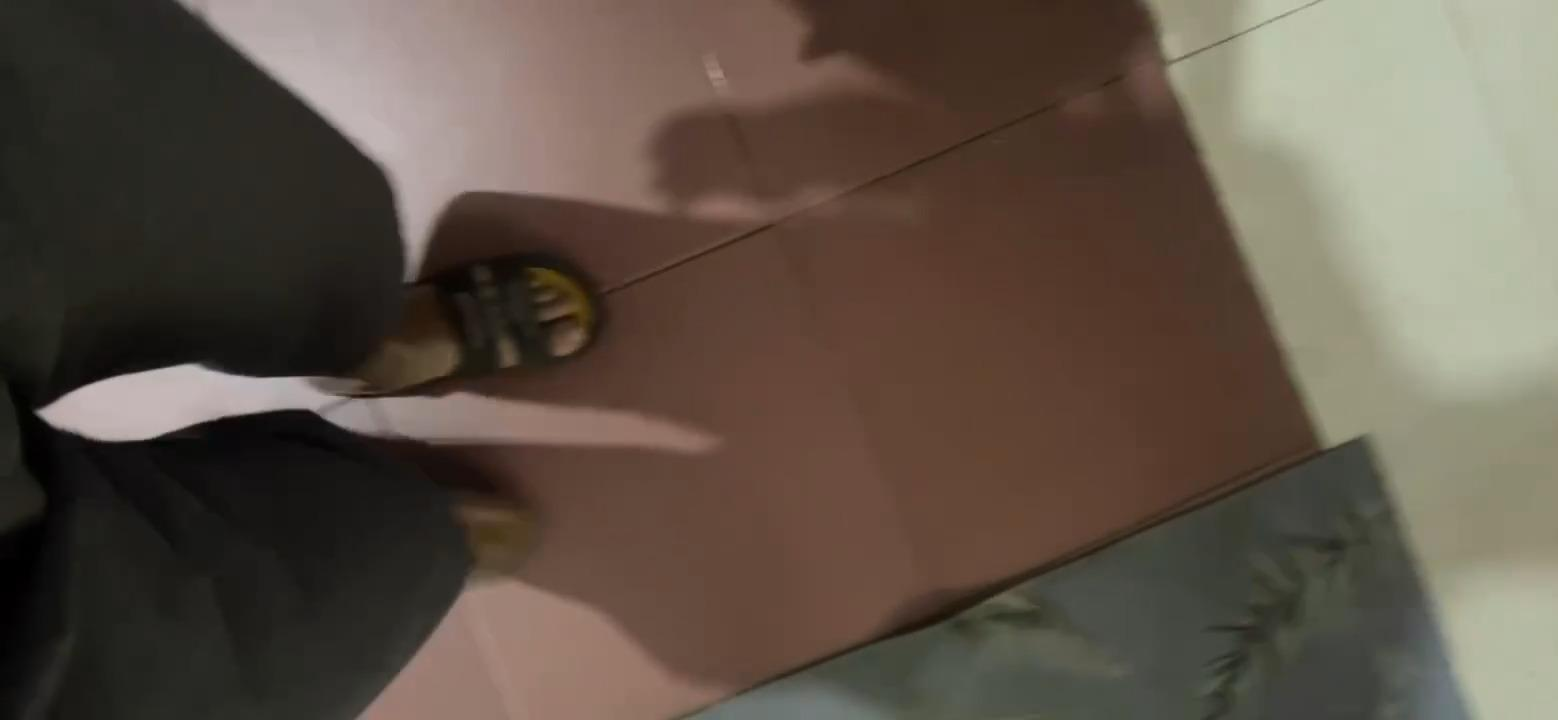no-boot: (311, 249, 585, 393)
